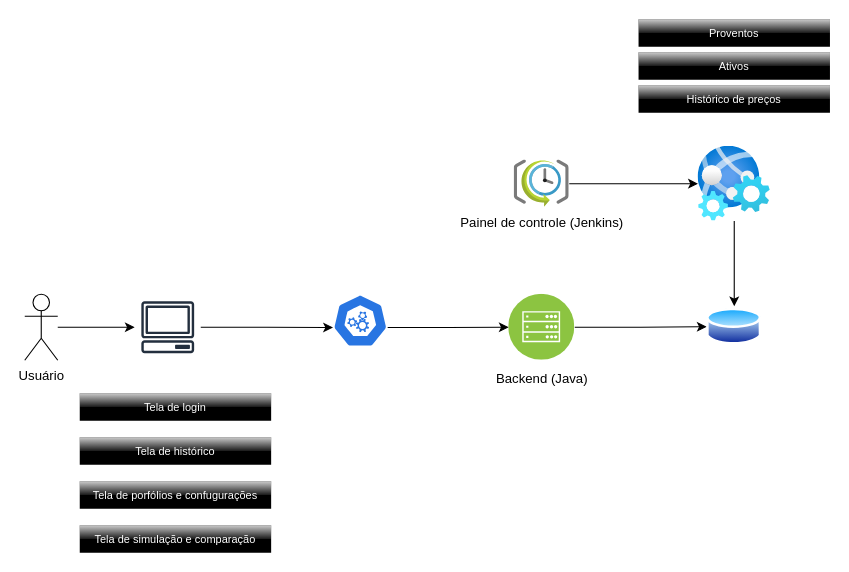
Image size: 849x572. Some labels were removed from this diagram. The box of each missing label's shape, as (x1, y1, x2, y2) in pixels:
Banco de dados (MySQl): (706, 306, 761, 346)
ETL (Python): (697, 146, 770, 221)
Frontend (Angular): (134, 293, 201, 360)
Proxy (Nginx): (332, 293, 388, 347)
